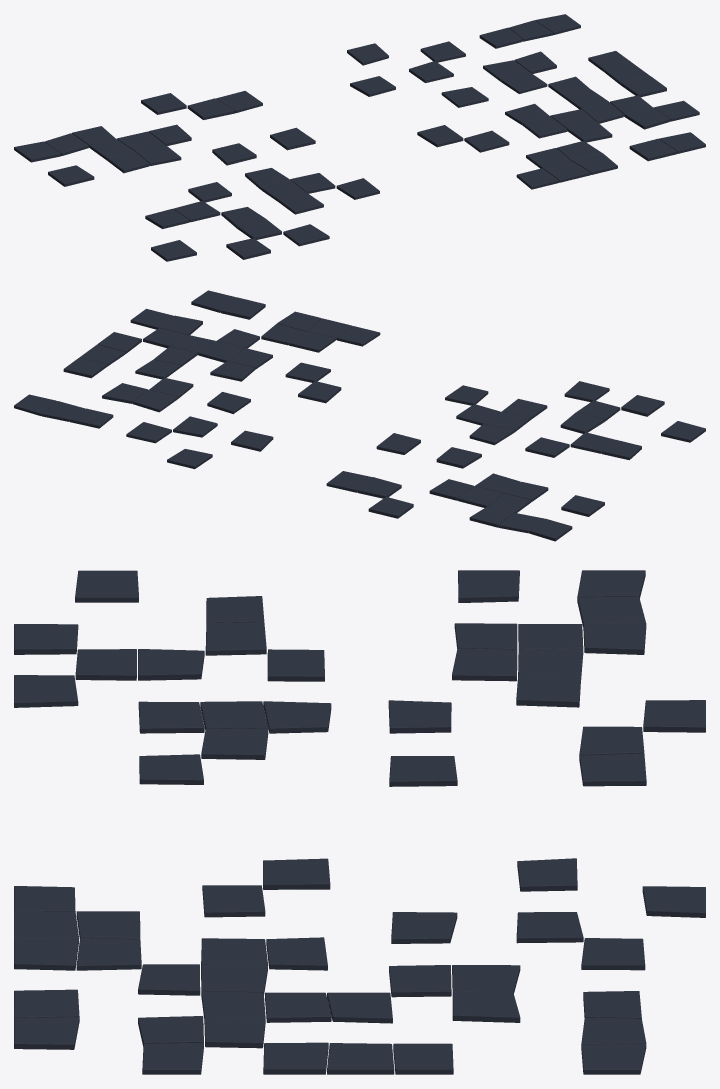
The model's file is Floor3_FloorStoneLight.fbx.
3 renders of one model, top to bottom at view 1: azimuth 30°, elevation 25°; view 2: azimuth 150°, elevation 25°; view 3: azimuth 270°, elevation 25°, orthographic. The views are drawn at different scales.
Parts seen in each view (by area): view 1: Floor2_0_1.001; view 2: Floor2_0_1.001; view 3: Floor2_0_1.001.
Part boxes in pixels (left/top/right/bottom): Floor2_0_1.001: left=14, top=14, right=705, bottom=261; Floor2_0_1.001: left=14, top=290, right=705, bottom=541; Floor2_0_1.001: left=14, top=570, right=705, bottom=1074.
Bounding box in the file's own units: 14987 × 85.4 × 8786.
